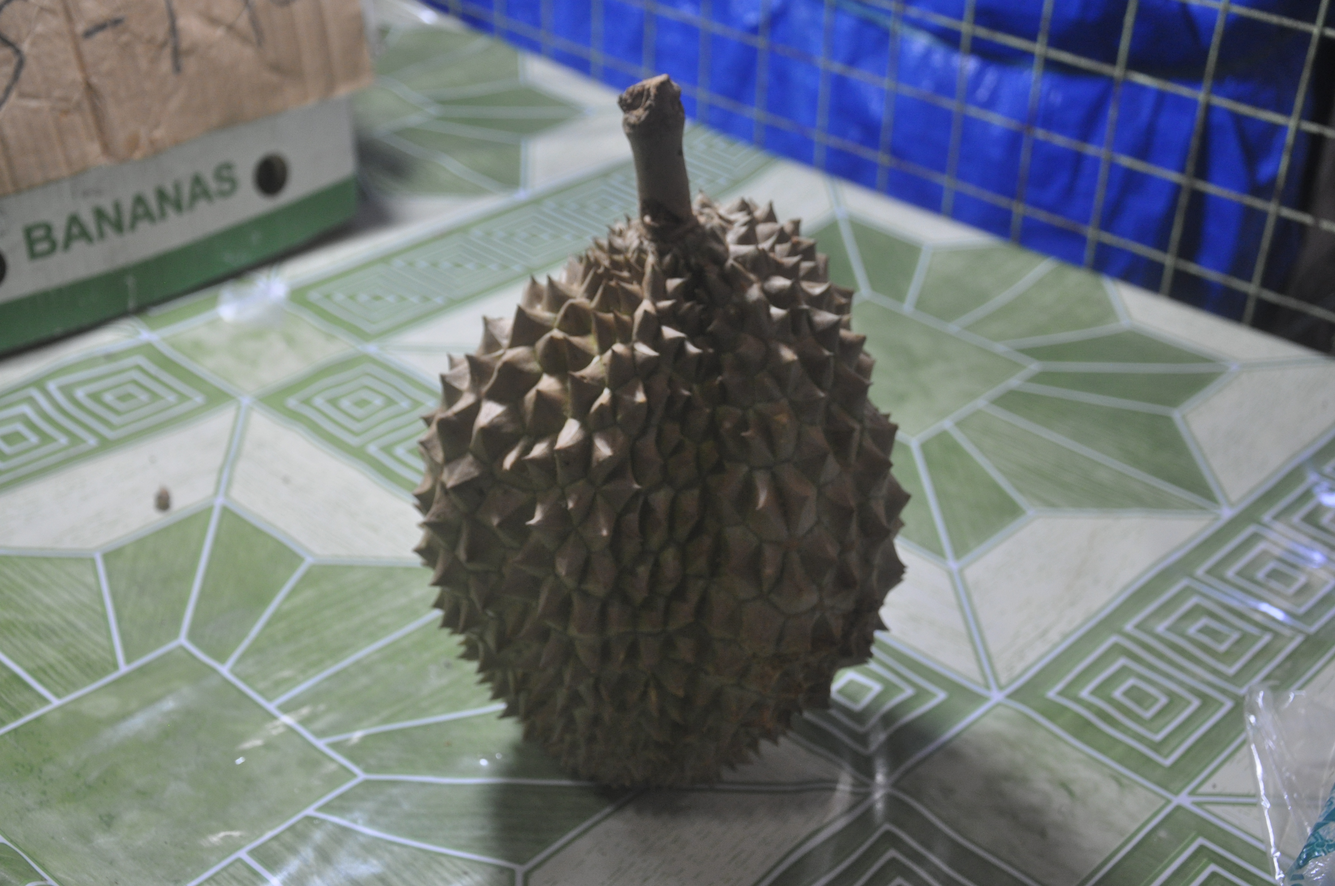mature: (414, 75, 908, 786)
